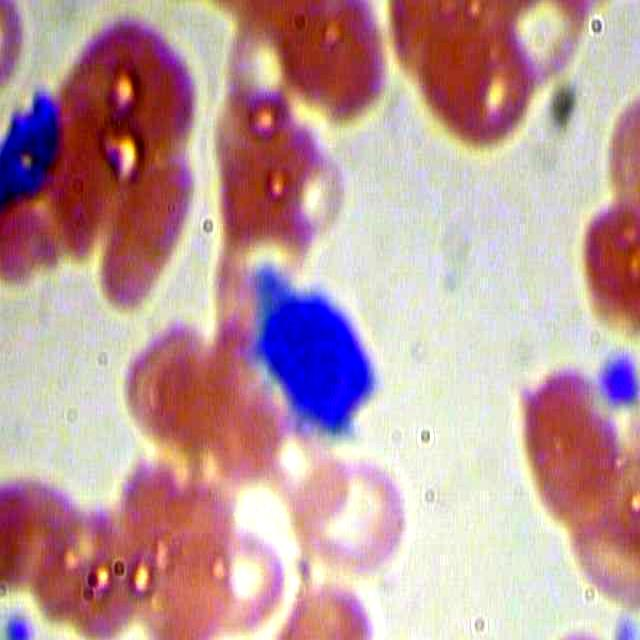Platelets: (596, 346, 640, 410), (5, 606, 38, 640)
WBC: (250, 262, 405, 449)
